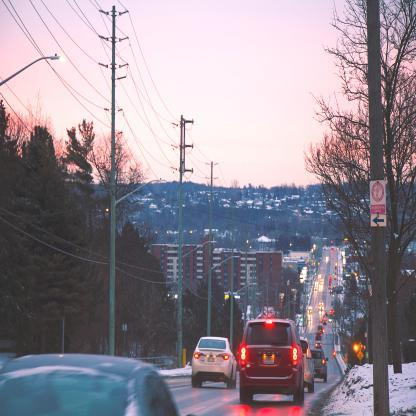light_pole: (110, 177, 167, 371), (179, 240, 219, 367), (0, 53, 66, 98)
